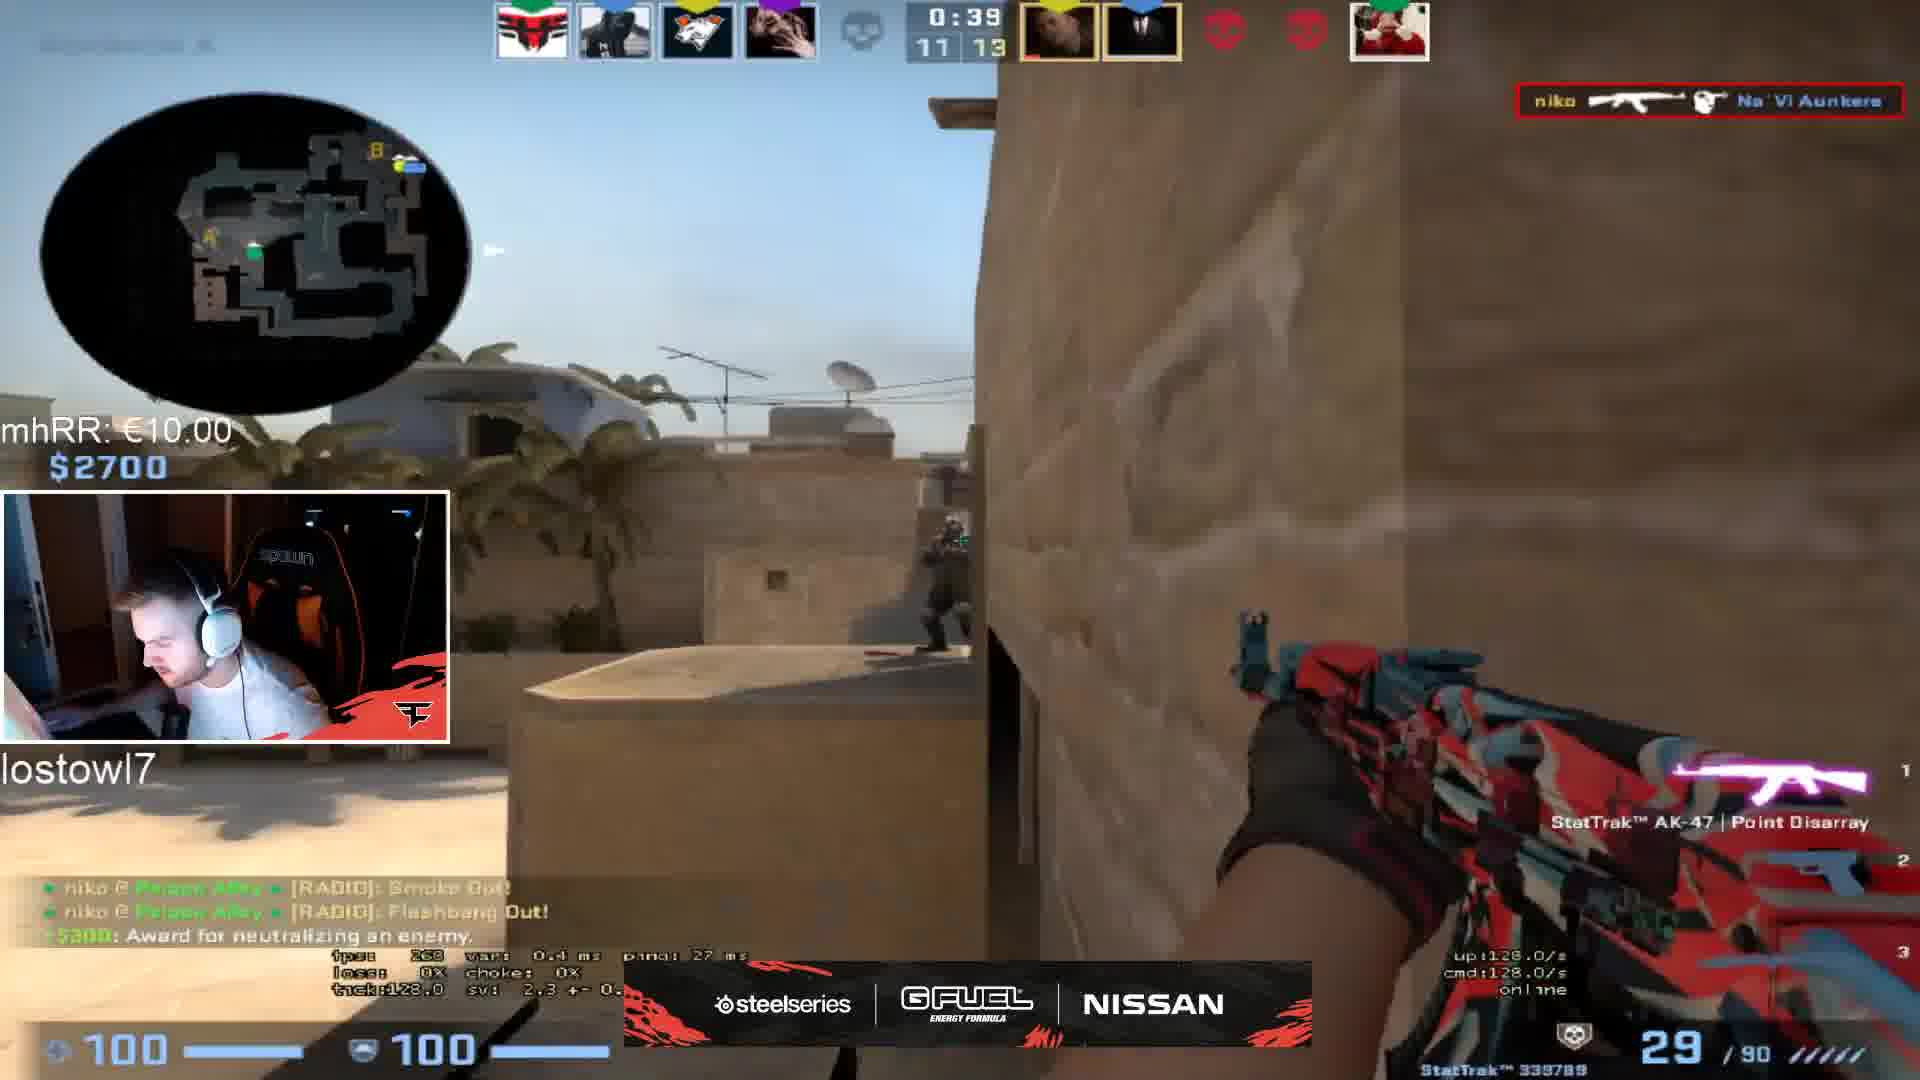enemy: (920, 517, 982, 651)
